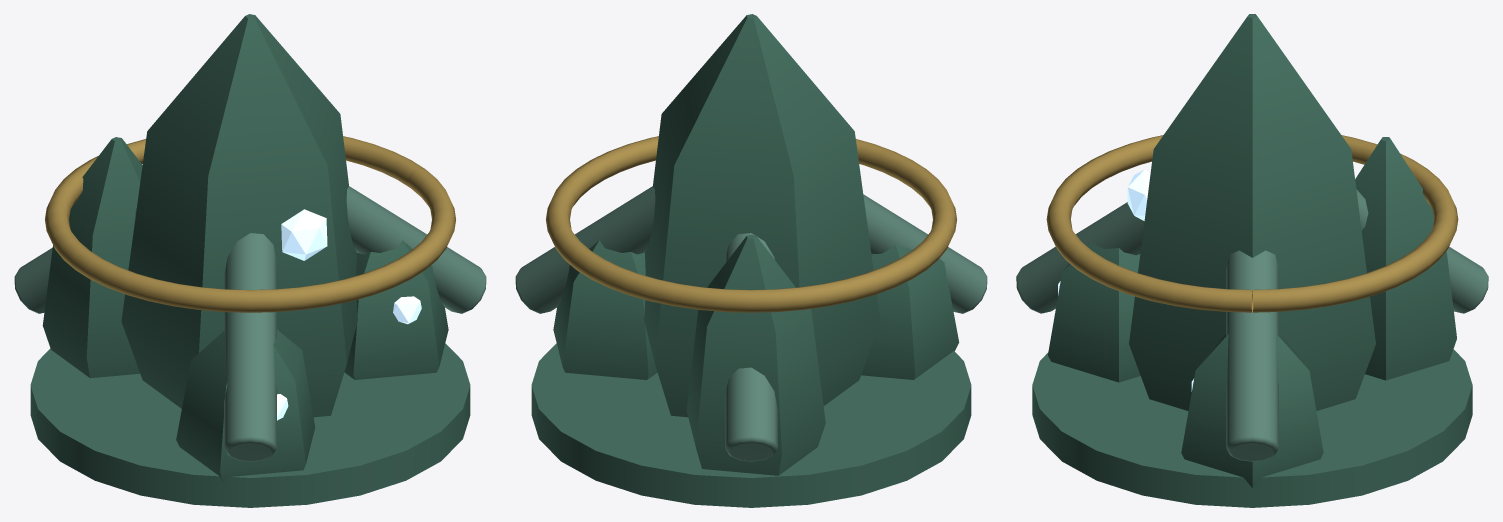
3 renders of one model, left to right at view 1: azimuth 30°, elevation 25°; view 2: azimuth 150°, elevation 25°; view 3: azimuth 270°, elevation 25°, orthographic.
Parts seen in each view (by area): view 1: Faceted crystal tower, Foundation drum, Crystal conductive halo, Faceted crystal tower.002, Crystal radial strut.002, Faceted crystal tower.003, Faceted crystal tower.001, Crystal radial strut, Central luminous node, Crystal radial strut.001, Crystal luminous node; view 2: Faceted crystal tower, Foundation drum, Faceted crystal tower.002, Crystal conductive halo, Faceted crystal tower.001, Faceted crystal tower.003, Crystal radial strut, Crystal radial strut.001, Crystal radial strut.002; view 3: Faceted crystal tower, Foundation drum, Crystal conductive halo, Faceted crystal tower.002, Faceted crystal tower.001, Crystal radial strut, Faceted crystal tower.003, Crystal radial strut.002, Crystal radial strut.001, Central luminous node.
Boxes of the visible parts, x1=… form: Faceted crystal tower: x1=121, y1=14, x2=357, y2=417; Foundation drum: x1=30, y1=343, x2=470, y2=507; Crystal conductive halo: x1=45, y1=136, x2=455, y2=312; Faceted crystal tower.002: x1=42, y1=137, x2=142, y2=378; Crystal radial strut.002: x1=224, y1=233, x2=276, y2=461; Faceted crystal tower.003: x1=176, y1=329, x2=315, y2=481; Faceted crystal tower.001: x1=344, y1=240, x2=448, y2=379; Crystal radial strut: x1=346, y1=186, x2=486, y2=313; Central luminous node: x1=281, y1=209, x2=327, y2=260; Crystal radial strut.001: x1=14, y1=209, x2=136, y2=313; Crystal luminous node: x1=393, y1=296, x2=421, y2=324; Faceted crystal tower: x1=644, y1=14, x2=880, y2=417; Foundation drum: x1=531, y1=343, x2=971, y2=507; Faceted crystal tower.002: x1=686, y1=234, x2=825, y2=475; Crystal conductive halo: x1=546, y1=136, x2=956, y2=312; Faceted crystal tower.001: x1=553, y1=240, x2=657, y2=379; Faceted crystal tower.003: x1=861, y1=244, x2=959, y2=379; Crystal radial strut: x1=515, y1=186, x2=655, y2=313; Crystal radial strut.001: x1=725, y1=233, x2=777, y2=461; Crystal radial strut.002: x1=863, y1=194, x2=987, y2=313; Faceted crystal tower: x1=1129, y1=14, x2=1375, y2=410; Foundation drum: x1=1032, y1=349, x2=1472, y2=507; Crystal conductive halo: x1=1046, y1=135, x2=1458, y2=312; Faceted crystal tower.002: x1=1355, y1=137, x2=1456, y2=380; Faceted crystal tower.001: x1=1181, y1=334, x2=1323, y2=487; Crystal radial strut: x1=1226, y1=250, x2=1278, y2=461; Faceted crystal tower.003: x1=1048, y1=242, x2=1140, y2=382; Crystal radial strut.002: x1=1016, y1=202, x2=1144, y2=313; Crystal radial strut.001: x1=1356, y1=189, x2=1488, y2=313; Central luminous node: x1=1127, y1=169, x2=1150, y2=220.
Size of the model in its own units: 2.22 by 2 by 2.15.
